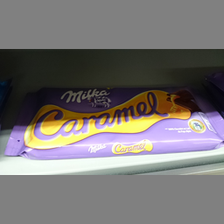chocolate: (19, 83, 224, 157)
